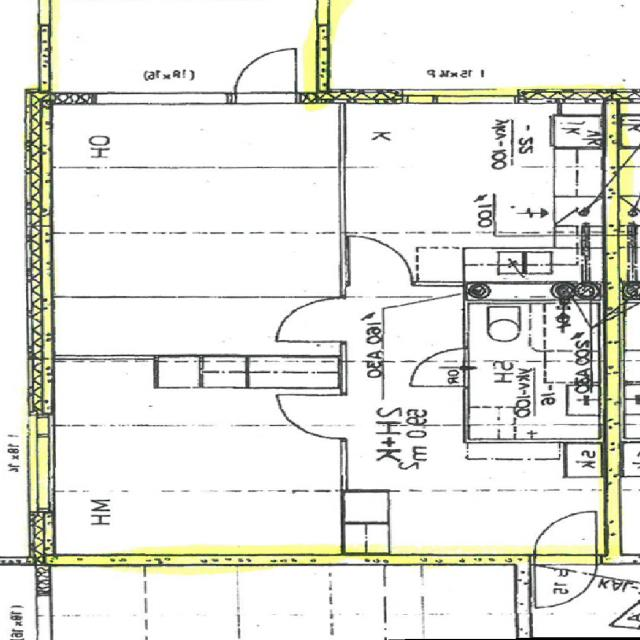door: (534, 554, 598, 608), (534, 511, 598, 564), (236, 50, 297, 104), (281, 394, 348, 436), (409, 348, 469, 386)
